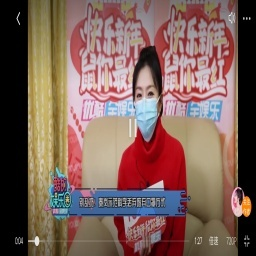correctlyWear: (132, 80, 163, 141)
